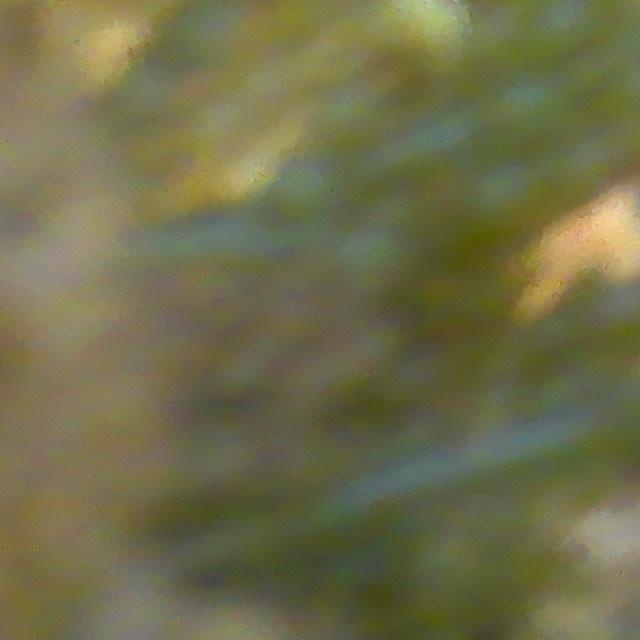SeaGrape: (462, 153, 542, 250), (488, 65, 573, 145), (529, 0, 619, 59), (272, 161, 339, 228)
